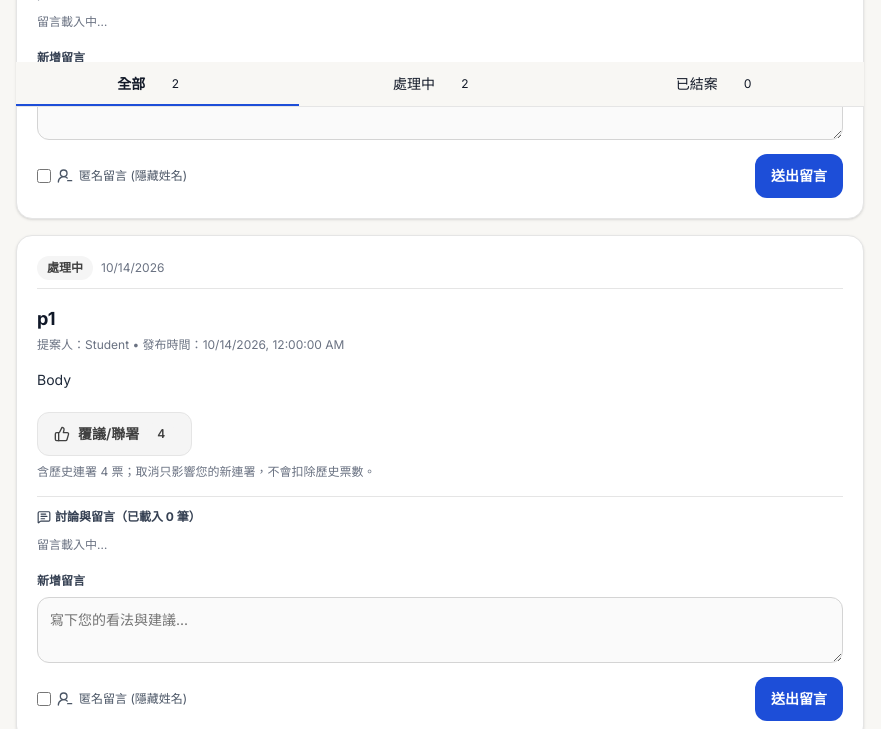
Test: keeps the server ballot and exact count after a rejected add/cancel (voted=false)
(page scrolled)
expect the heading "p1" is shown: met, box [37,308,56,329]
Click the button "覆議/聯署 4". click: click(115, 434)
box: [37,412,192,456]
(page scrolled)
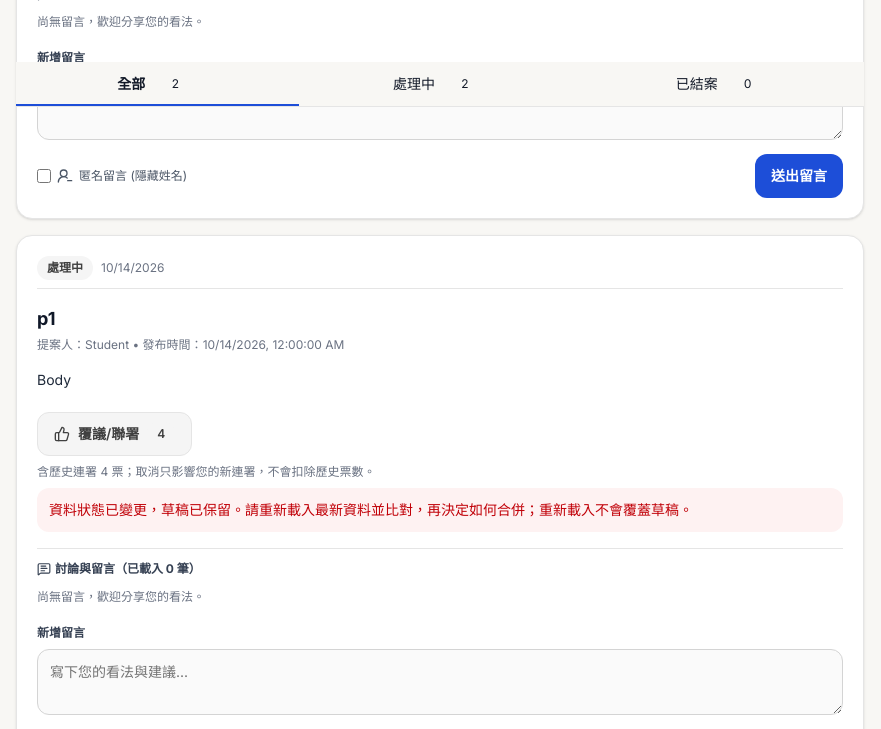
expect the text "4" is shown: met, box [147,422,175,446]
expect the message "資料狀態已變更，草稿已保留。請重新載入最新資料並比對，再決定如何合併；重新載入不會覆蓋草稿。" is shown: met, box [37,488,843,532]
